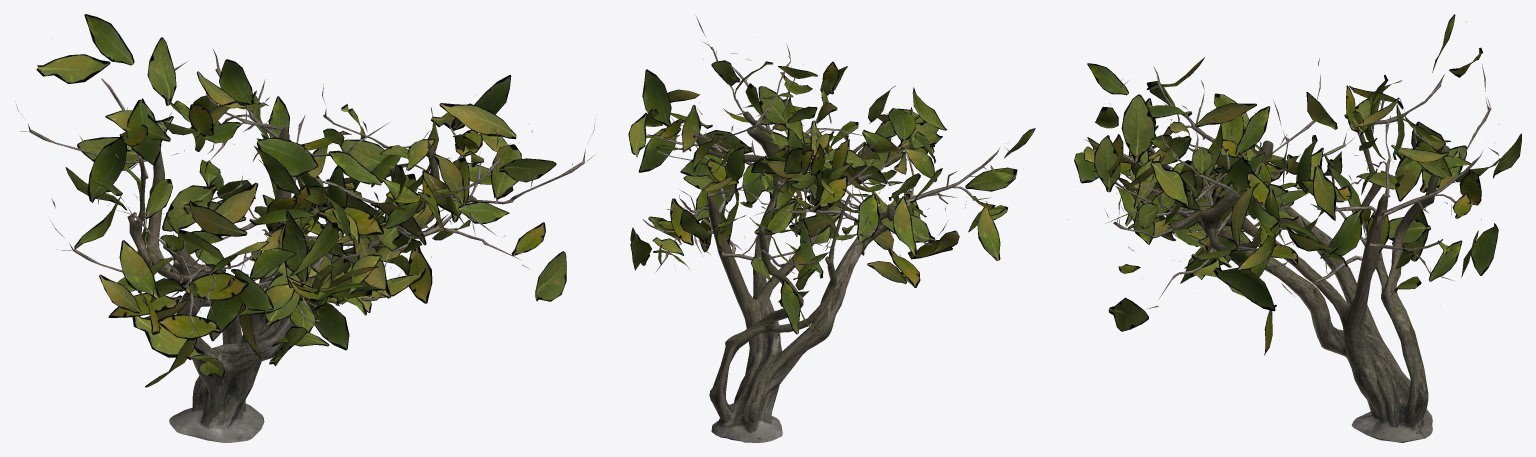
3 views of the same model, side by side, from view 1: azimuth 30°, elevation 25°; view 2: azimuth 150°, elevation 25°; view 3: azimuth 270°, elevation 25° (orthographic). The views are drawn at different scales.
Parts seen in each view (by area): view 1: island_tree_02_LOD0; view 2: island_tree_02_LOD0; view 3: island_tree_02_LOD0.
Part boxes in pixels (x1,y1,x2,y2): island_tree_02_LOD0: [16, 14, 595, 442]; island_tree_02_LOD0: [628, 16, 1035, 442]; island_tree_02_LOD0: [1068, 14, 1521, 442].
Bounding box in the file's own units: 3.87 × 3.47 × 3.93.
Materials: 3 (3 with a texture image).
